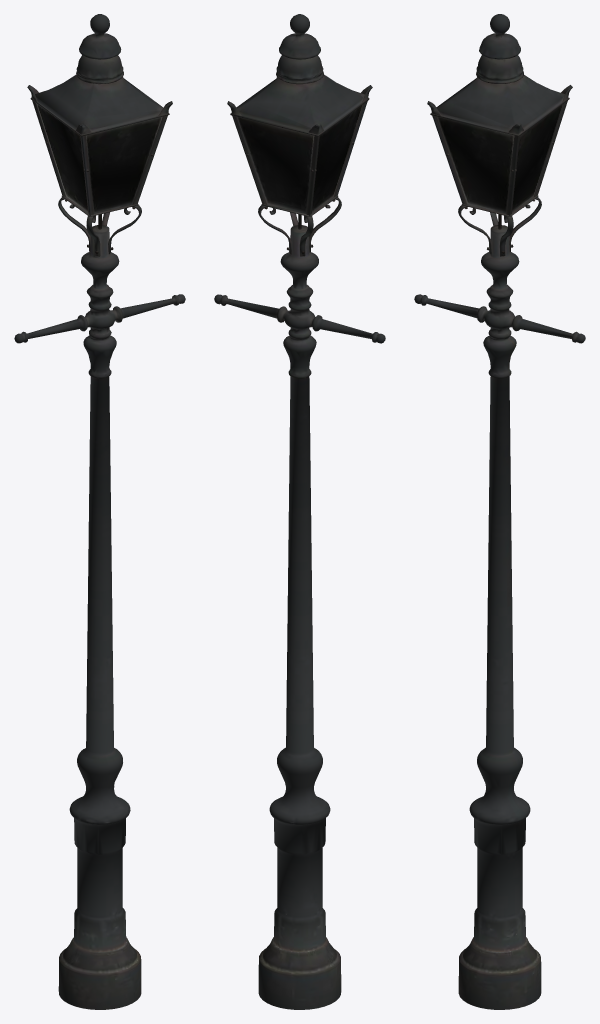
Rendered from street_lamp_01.glb.
3 views of the same model, side by side, from view 1: azimuth 30°, elevation 25°; view 2: azimuth 150°, elevation 25°; view 3: azimuth 330°, elevation 25° (orthographic).
Parts seen in each view (by area): view 1: street_lamp_01; view 2: street_lamp_01; view 3: street_lamp_01.
Boxes of the visible parts, left/top/right/bottom form: street_lamp_01: left=14, top=14, right=185, bottom=1009; street_lamp_01: left=214, top=14, right=385, bottom=1009; street_lamp_01: left=414, top=14, right=585, bottom=1009.
Size of the model in its own units: 0.7034 by 3.87 by 0.3858.
Materials: 2 (2 with a texture image).
